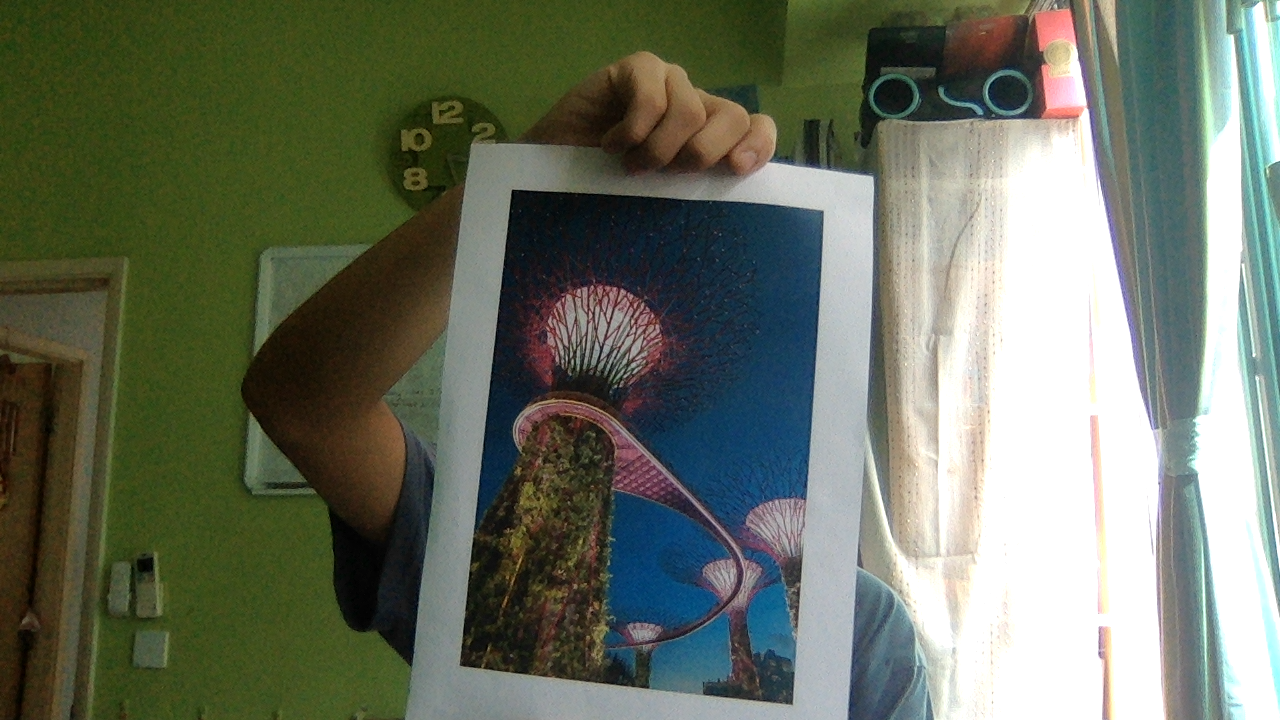GBTB: (459, 188, 831, 704)
